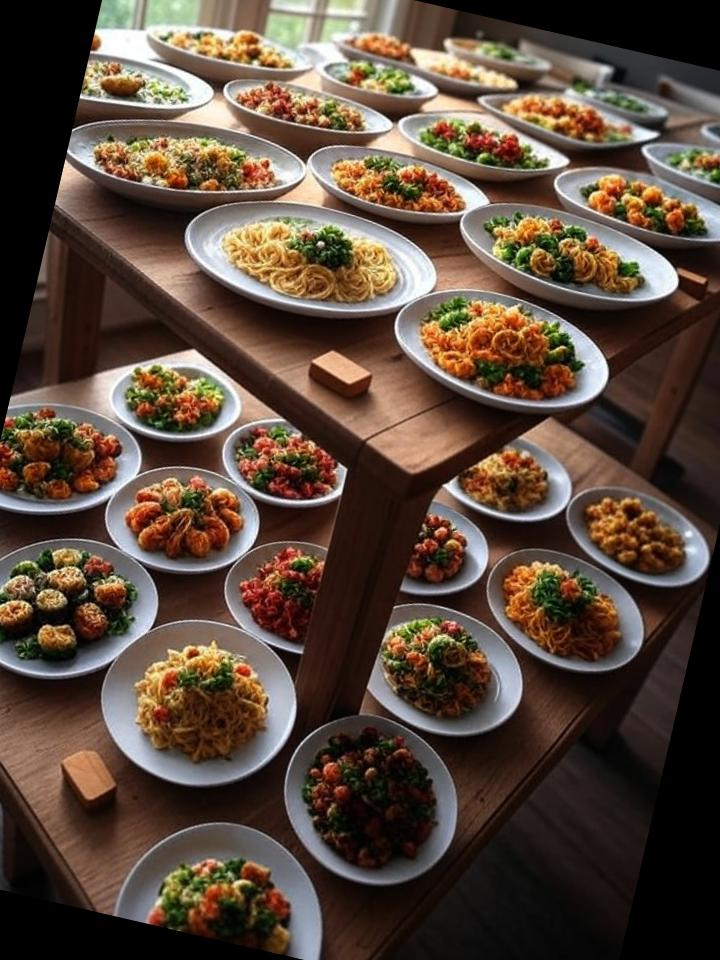noodles: (249, 197, 407, 308), (136, 651, 286, 763), (516, 550, 629, 650)
